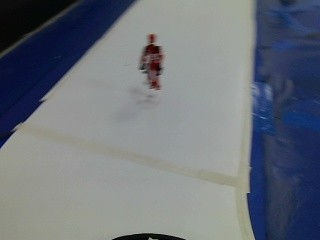pedestrian: (138, 30, 163, 92)
